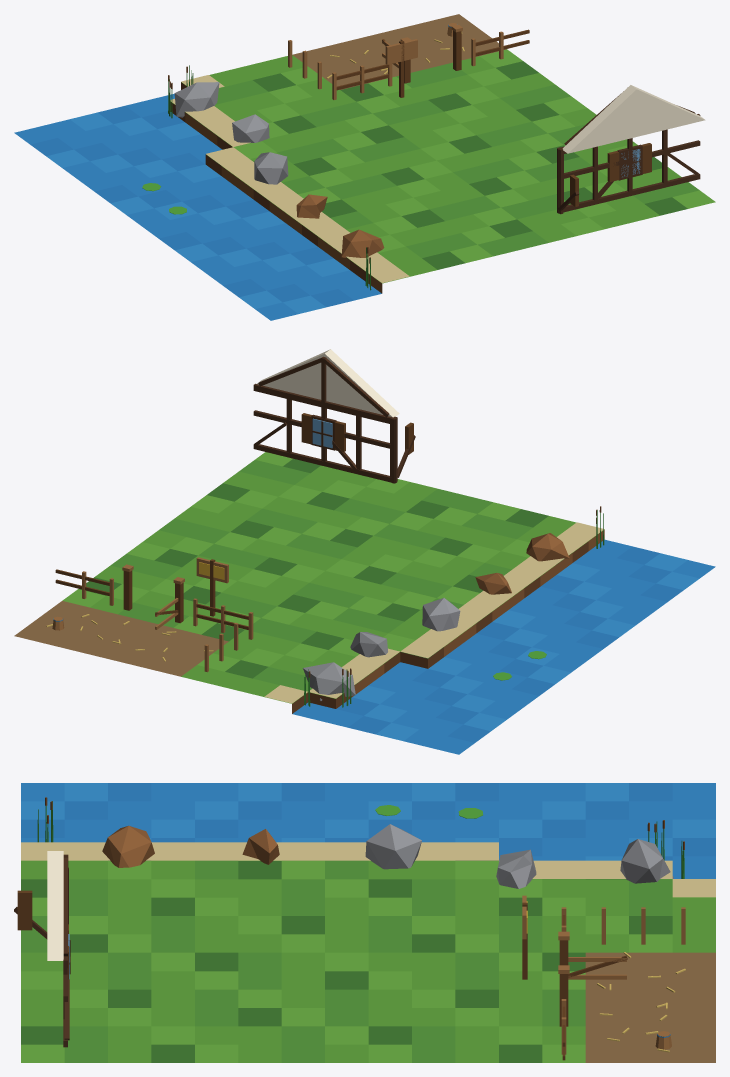
File: chunk_0_1.glb
3 views of the same model, one above another, from view 1: azimuth 30°, elevation 25°; view 2: azimuth 150°, elevation 25°; view 3: azimuth 270°, elevation 25° (orthographic). The views are drawn at different scales.
Visible parts, largest first — view 1: chunk_0_1; view 2: chunk_0_1; view 3: chunk_0_1.
Part boxes in pixels (x1=…): chunk_0_1: x1=14, y1=14, x2=715, y2=320; chunk_0_1: x1=14, y1=349, x2=715, y2=754; chunk_0_1: x1=14, y1=783, x2=715, y2=1062.
Size of the model in its own units: 16.5 by 4.74 by 16.16.
